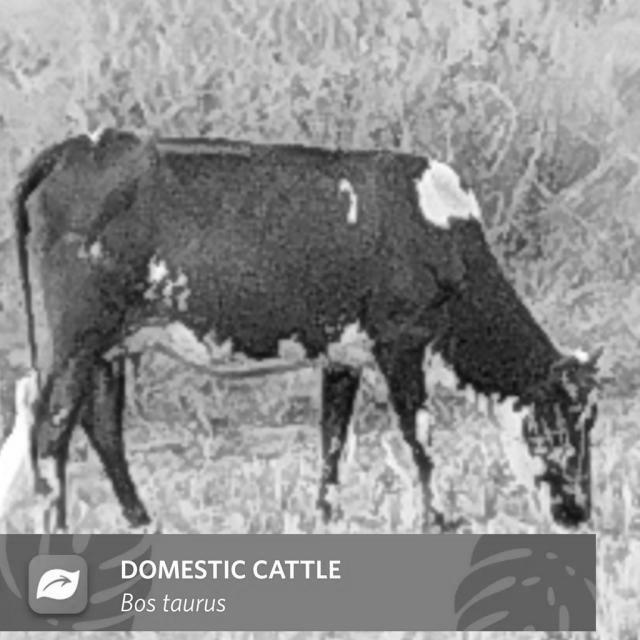cow: (15, 128, 592, 528)
